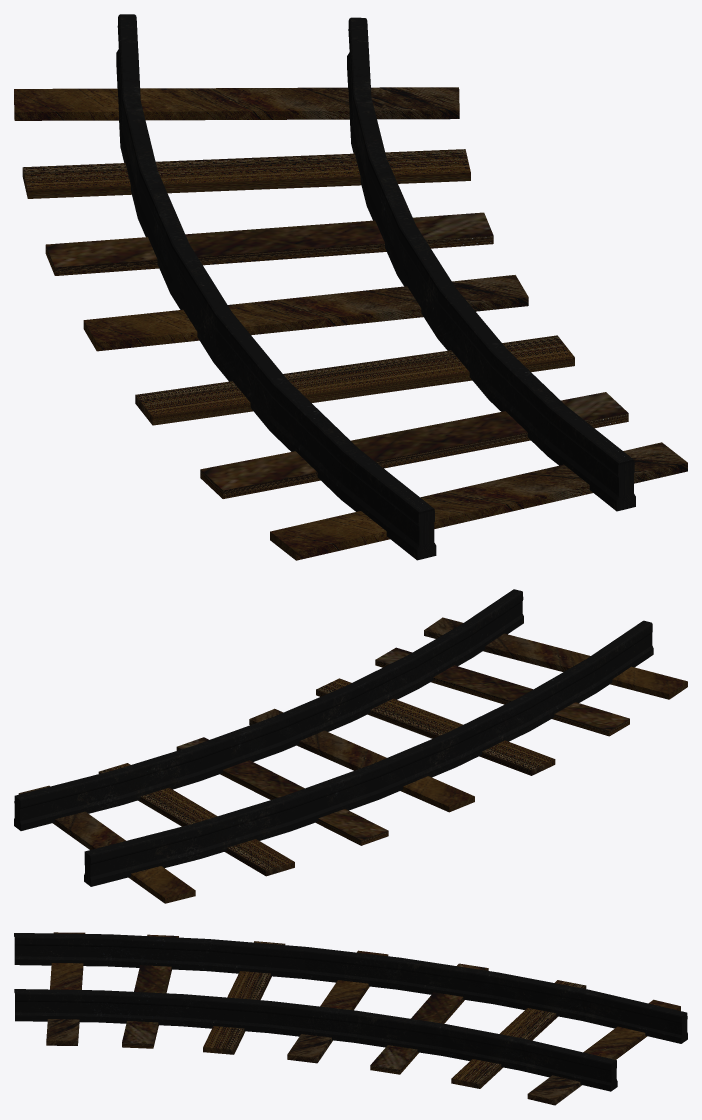
File: track twist(short).fbx
The picture shows the model from 3 angles, top to bottom: view 1: azimuth 30°, elevation 25°; view 2: azimuth 150°, elevation 25°; view 3: azimuth 270°, elevation 25°; orthographic projection. The views are drawn at different scales.
Parts seen in each view (by area): view 1: polySurface124; view 2: polySurface124; view 3: polySurface124.
Part boxes in pixels (x1=…): polySurface124: x1=14, y1=14, x2=687, y2=560; polySurface124: x1=14, y1=589, x2=687, y2=903; polySurface124: x1=14, y1=932, x2=687, y2=1105.
Bounding box in the file's own units: 10.76 × 0.8958 × 18.24.
1 material, 1 textured.
